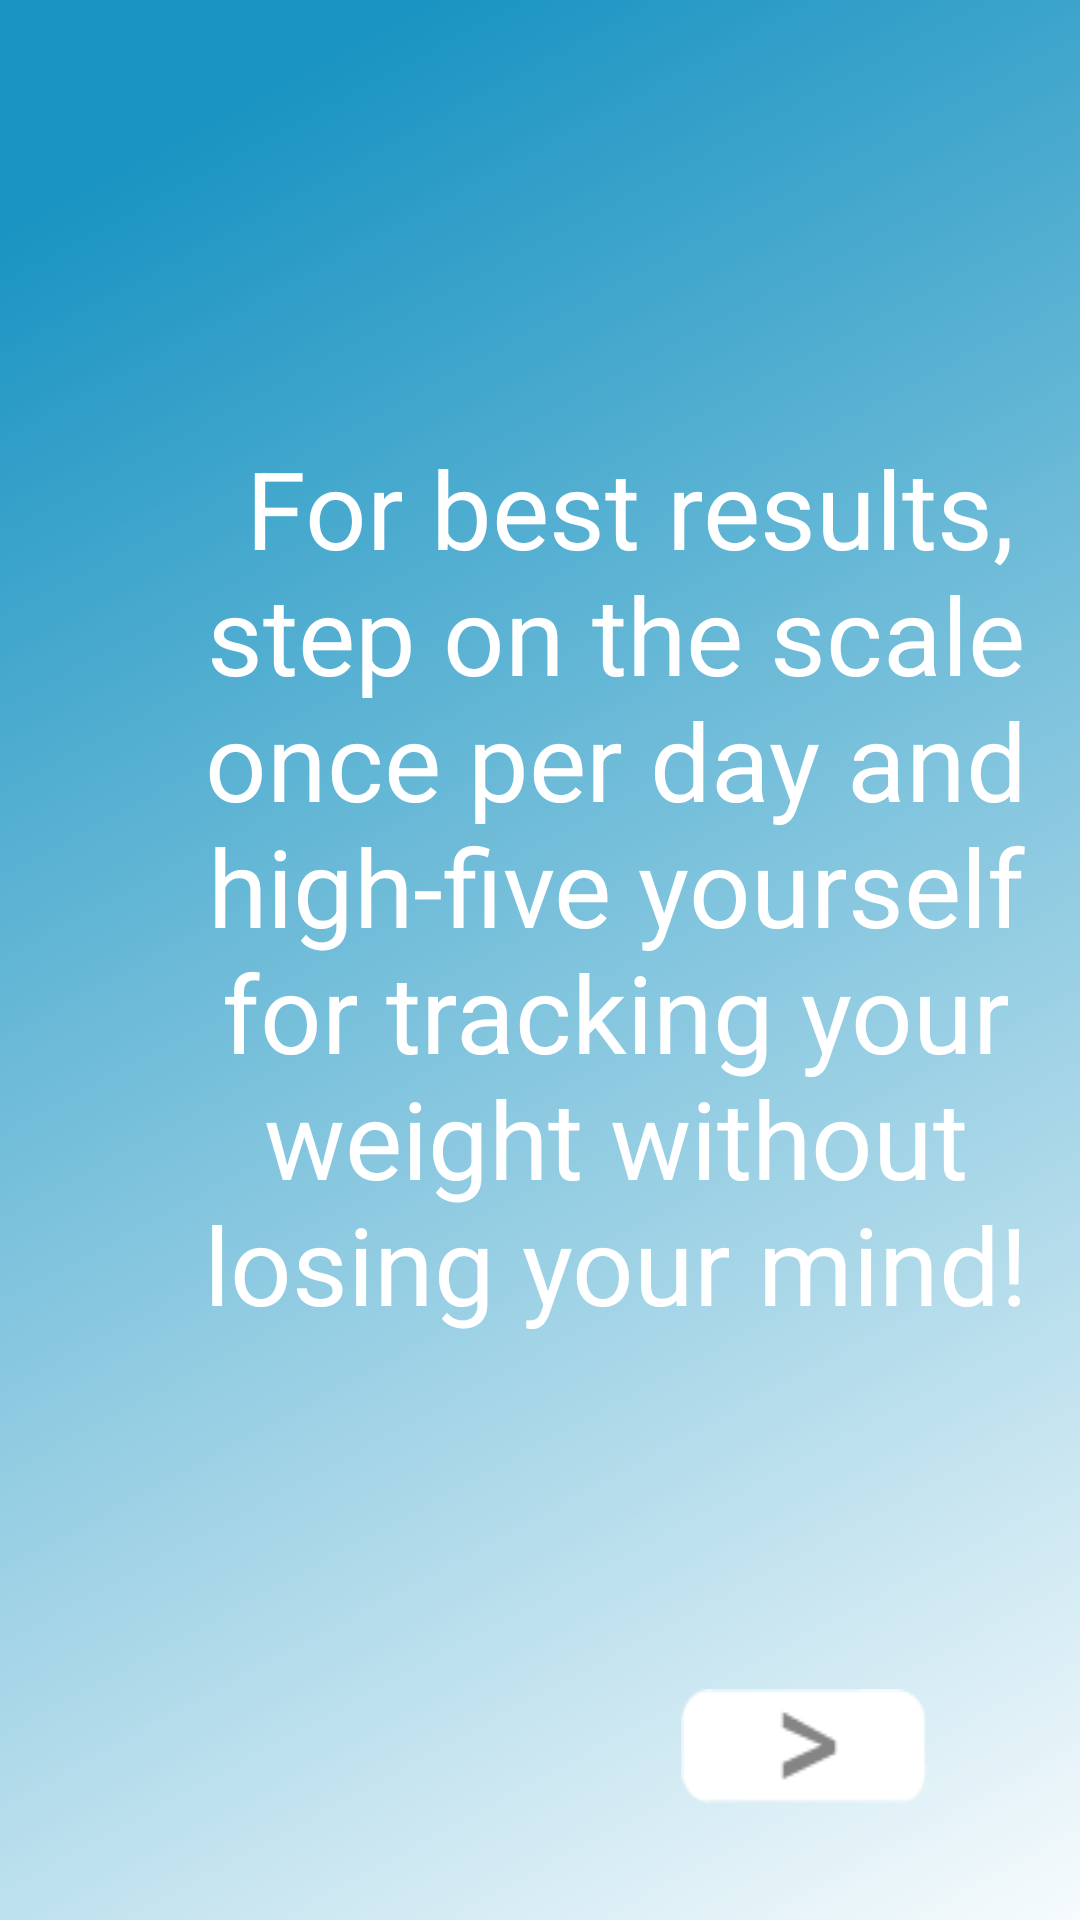

Icon click points for this 1080 x 1920 phone screenshot, format point (x, y):
next: point (804, 1746)
